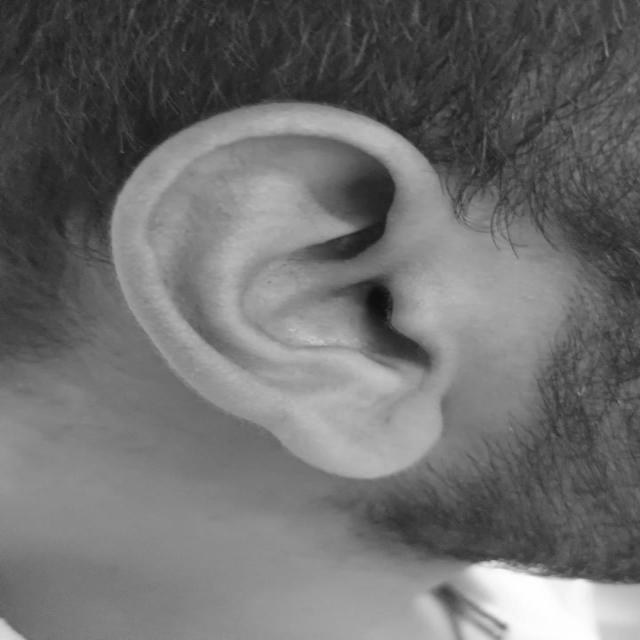ear: (110, 102, 453, 477), (428, 220, 436, 228)
